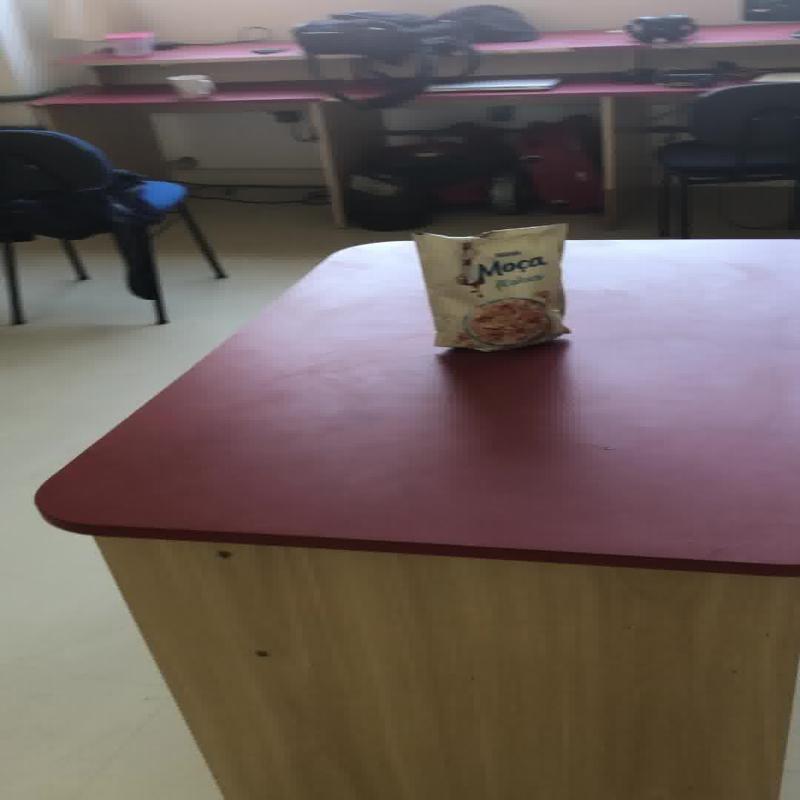corn flakes: (409, 222, 570, 352), (463, 296, 550, 344)
